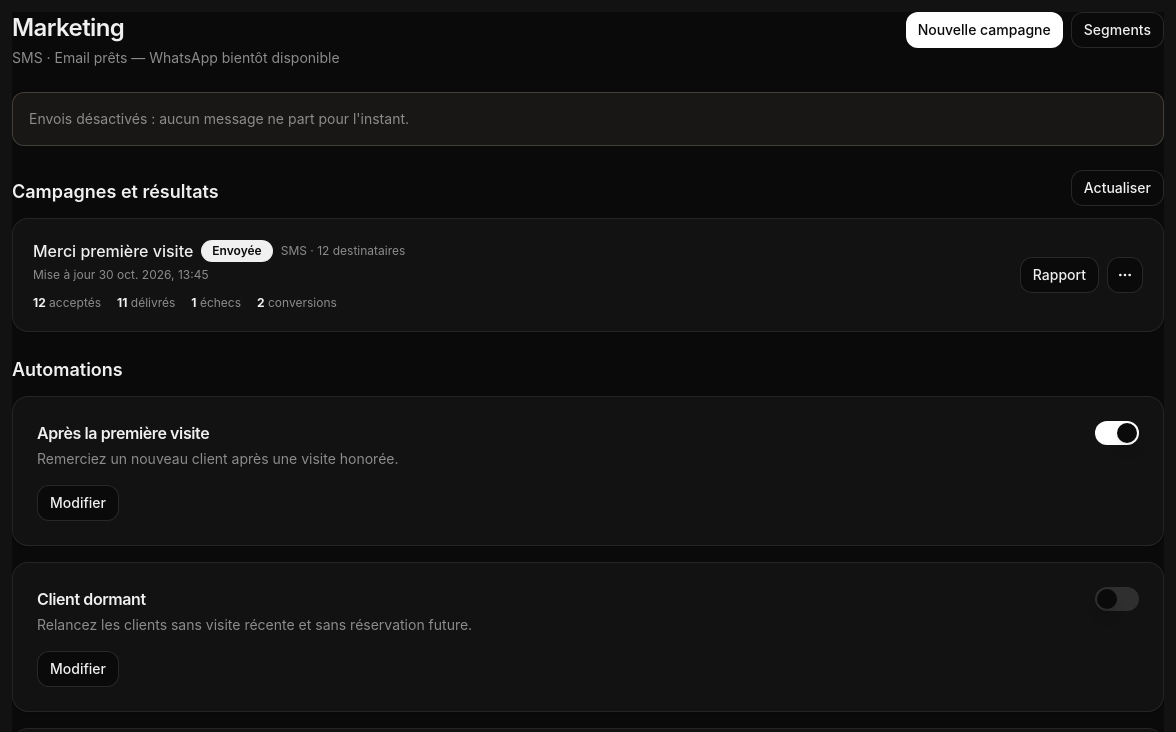
Scenario: MarketingPage › signale les modifications non enregistrées
Expected: the heading "Marketing" is shown, [12,12,124,44]
Expected: the text "Modifications non enregistrées" is not shown
Click the switch named "Activer Client dormant" at (1117, 599), box [1095,587,1139,611]
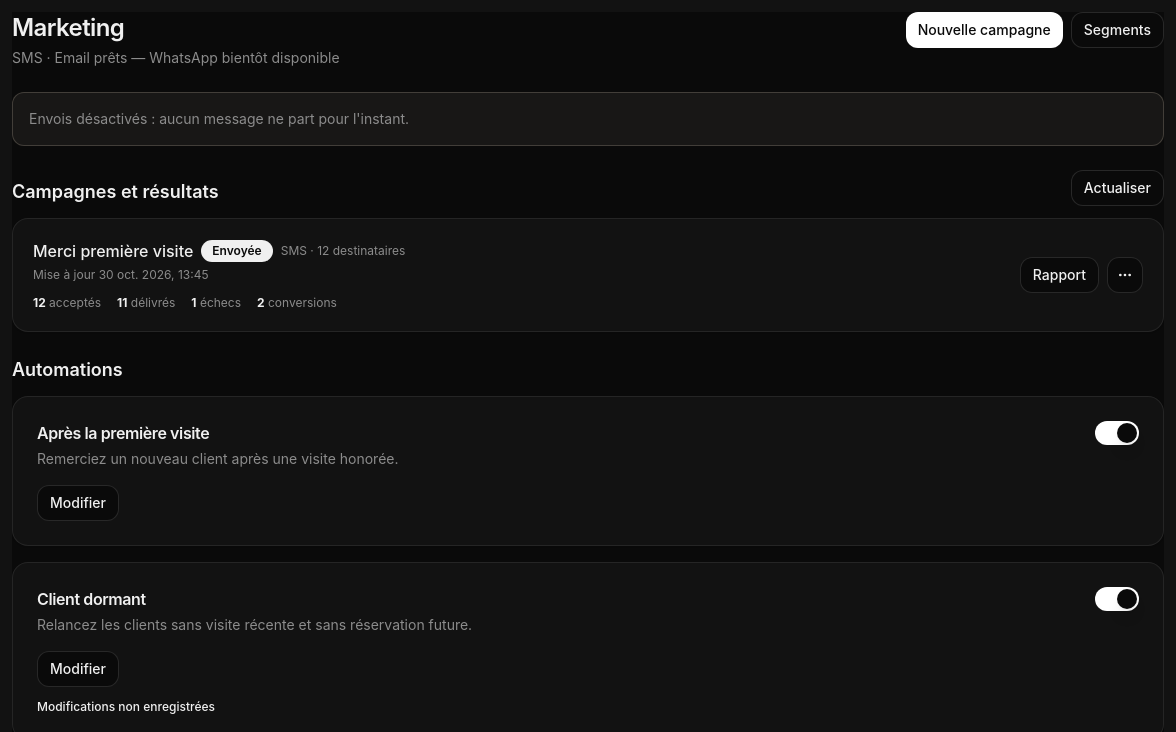
Expected: the text "Modifications non enregistrées" is shown, [37,699,215,714]
